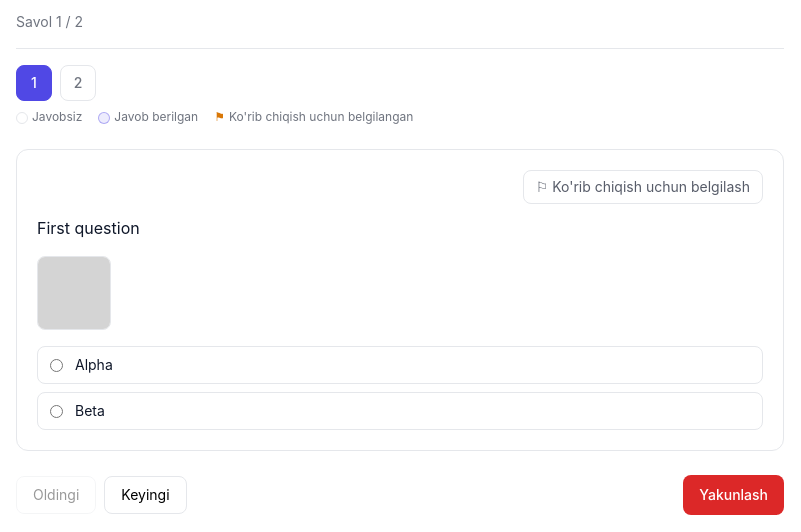
Test: AttemptPage — Task 1 media delivery › only requests media for the question on screen, and switches media on navigation
Click the button "Keyingi". click: {"x": 145, "y": 495}
box: x1=104 y1=476 x2=187 y2=514
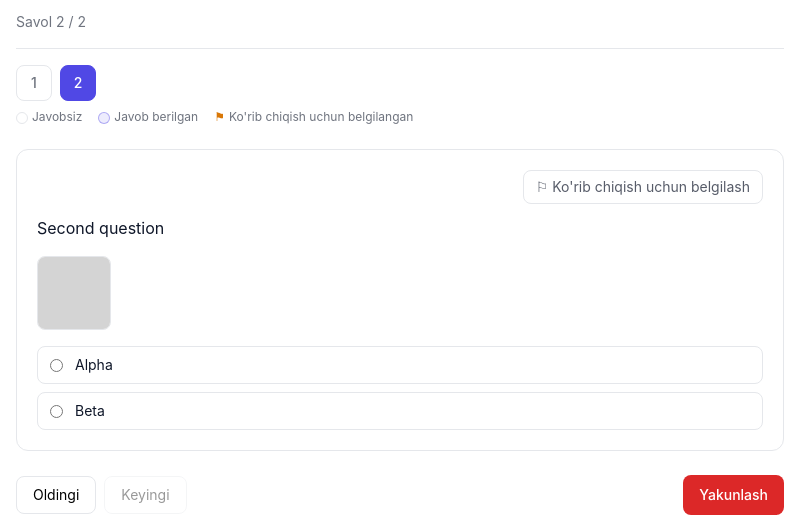
Expected: the text "Second question" is shown, x1=37 y1=218 x2=164 y2=238
